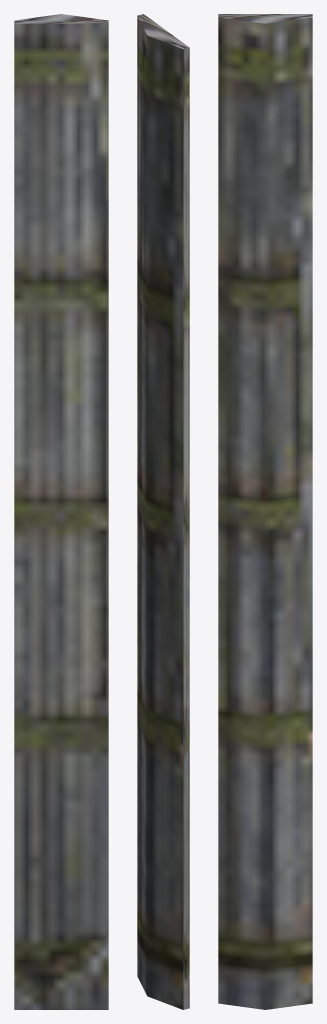
File: Wire Short.fbx
3 renders of one model, left to right at view 1: azimuth 90°, elevation 25°; view 2: azimuth 210°, elevation 25°; view 3: azimuth 270°, elevation 25°, orthographic. The views are drawn at different scales.
Visible parts, largest first — view 1: Cylinder004; view 2: Cylinder004; view 3: Cylinder004.
Boxes of the visible parts, x1,y1,x2,y2 form: Cylinder004: (14,14,108,1009); Cylinder004: (137,14,189,1009); Cylinder004: (218,14,312,1009).
Bounding box in the file's own units: 4.23 × 200 × 17.32.
